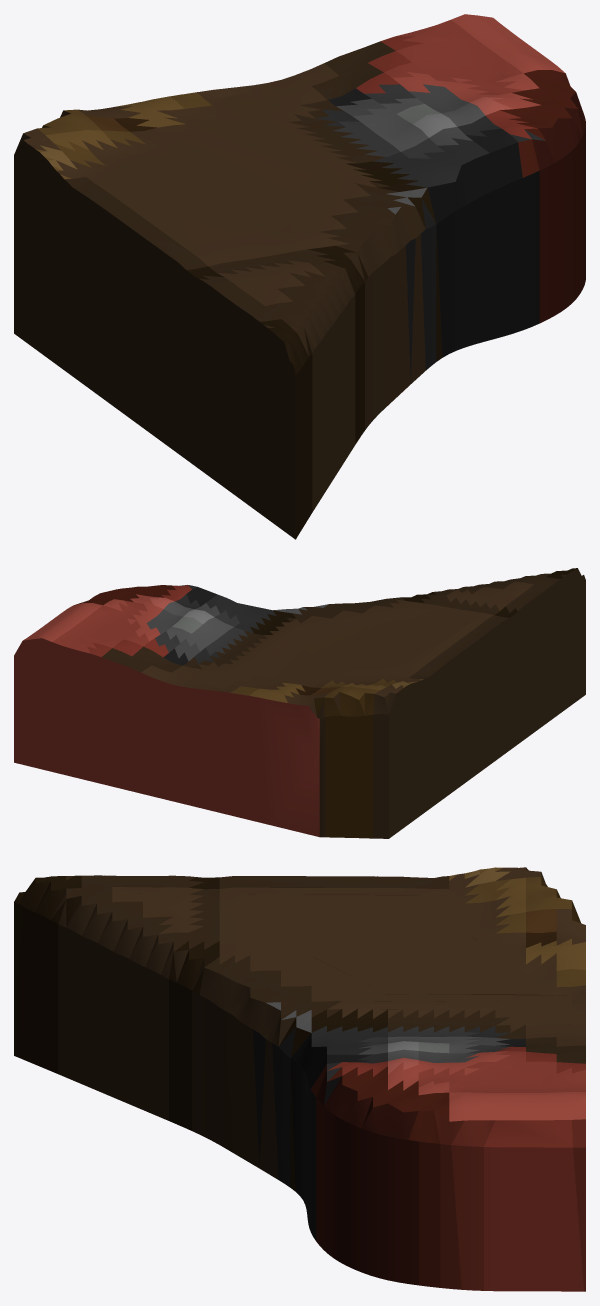
The model's file is tusk_boss_56.glb.
The picture shows the model from 3 angles, top to bottom: view 1: azimuth 30°, elevation 25°; view 2: azimuth 150°, elevation 25°; view 3: azimuth 270°, elevation 25°; orthographic projection. The views are drawn at different scales.
Visible parts, largest first — view 1: tusk_boss_56_plates; view 2: tusk_boss_56_plates; view 3: tusk_boss_56_plates.
Boxes of the visible parts, x1=… form: tusk_boss_56_plates: x1=14, y1=14, x2=585, y2=539; tusk_boss_56_plates: x1=14, y1=568, x2=585, y2=838; tusk_boss_56_plates: x1=14, y1=867, x2=585, y2=1291.
Bounding box in the file's own units: 20.03 × 7.49 × 20.53.
